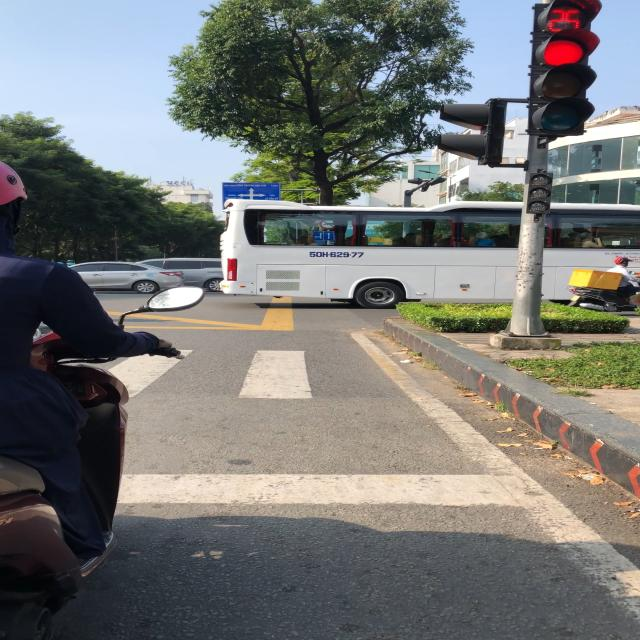Bien bao cam xe so-mi ro-mooc: (316, 219, 339, 229)
